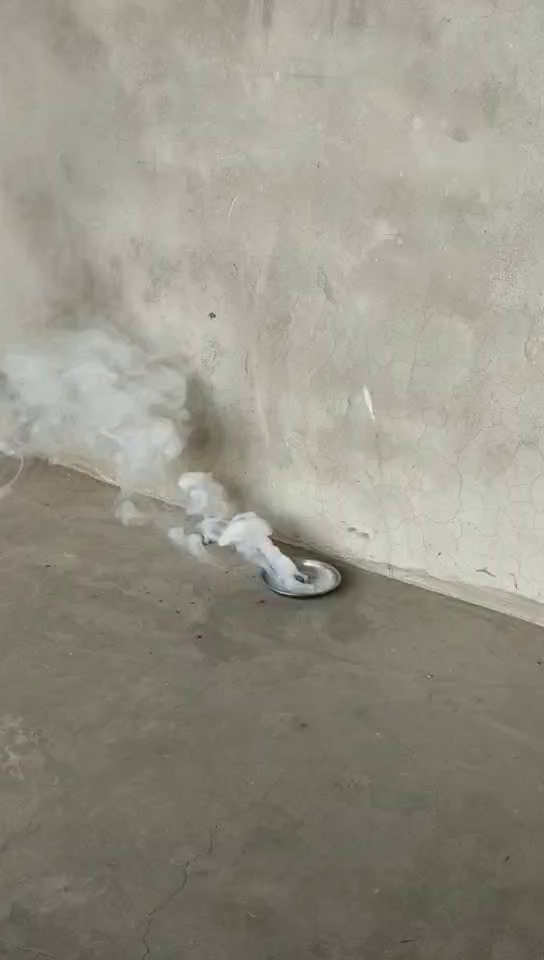smoke: (31, 318, 294, 590)
